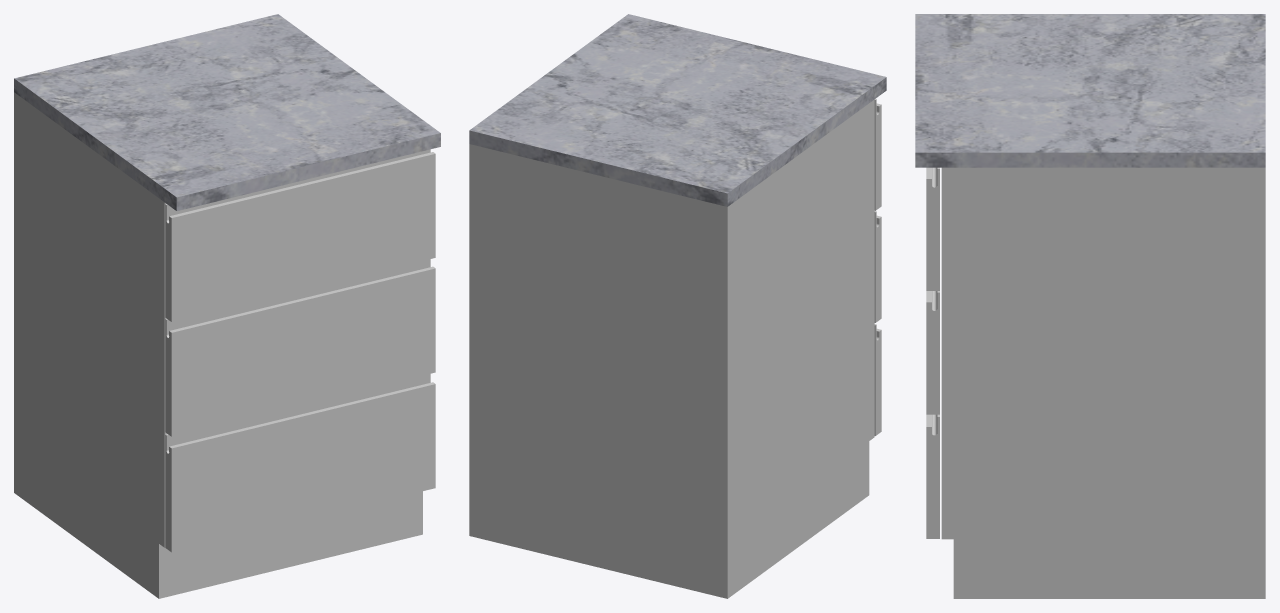
File: kitchen_drawer_3.glb
3 views of the same model, side by side, from view 1: azimuth 30°, elevation 25°; view 2: azimuth 150°, elevation 25°; view 3: azimuth 270°, elevation 25° (orthographic). The views are drawn at different scales.
Visible parts, largest first — view 1: Geom3D (×5); view 2: Geom3D (×5); view 3: Geom3D (×5).
Boxes of the visible parts, x1,y1,x2,y2 form: Geom3D (×5): (14, 14, 440, 598); Geom3D (×5): (469, 14, 886, 598); Geom3D (×5): (915, 14, 1265, 598).
Size of the model in its own units: 0.6 by 0.9 by 0.64.
Materials: 2 (1 with a texture image).
